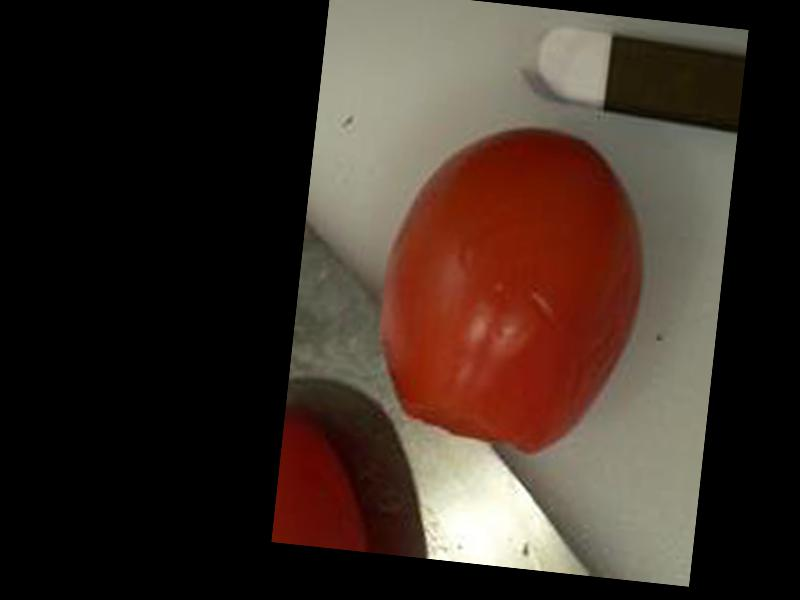Tomato: (366, 113, 656, 462)
